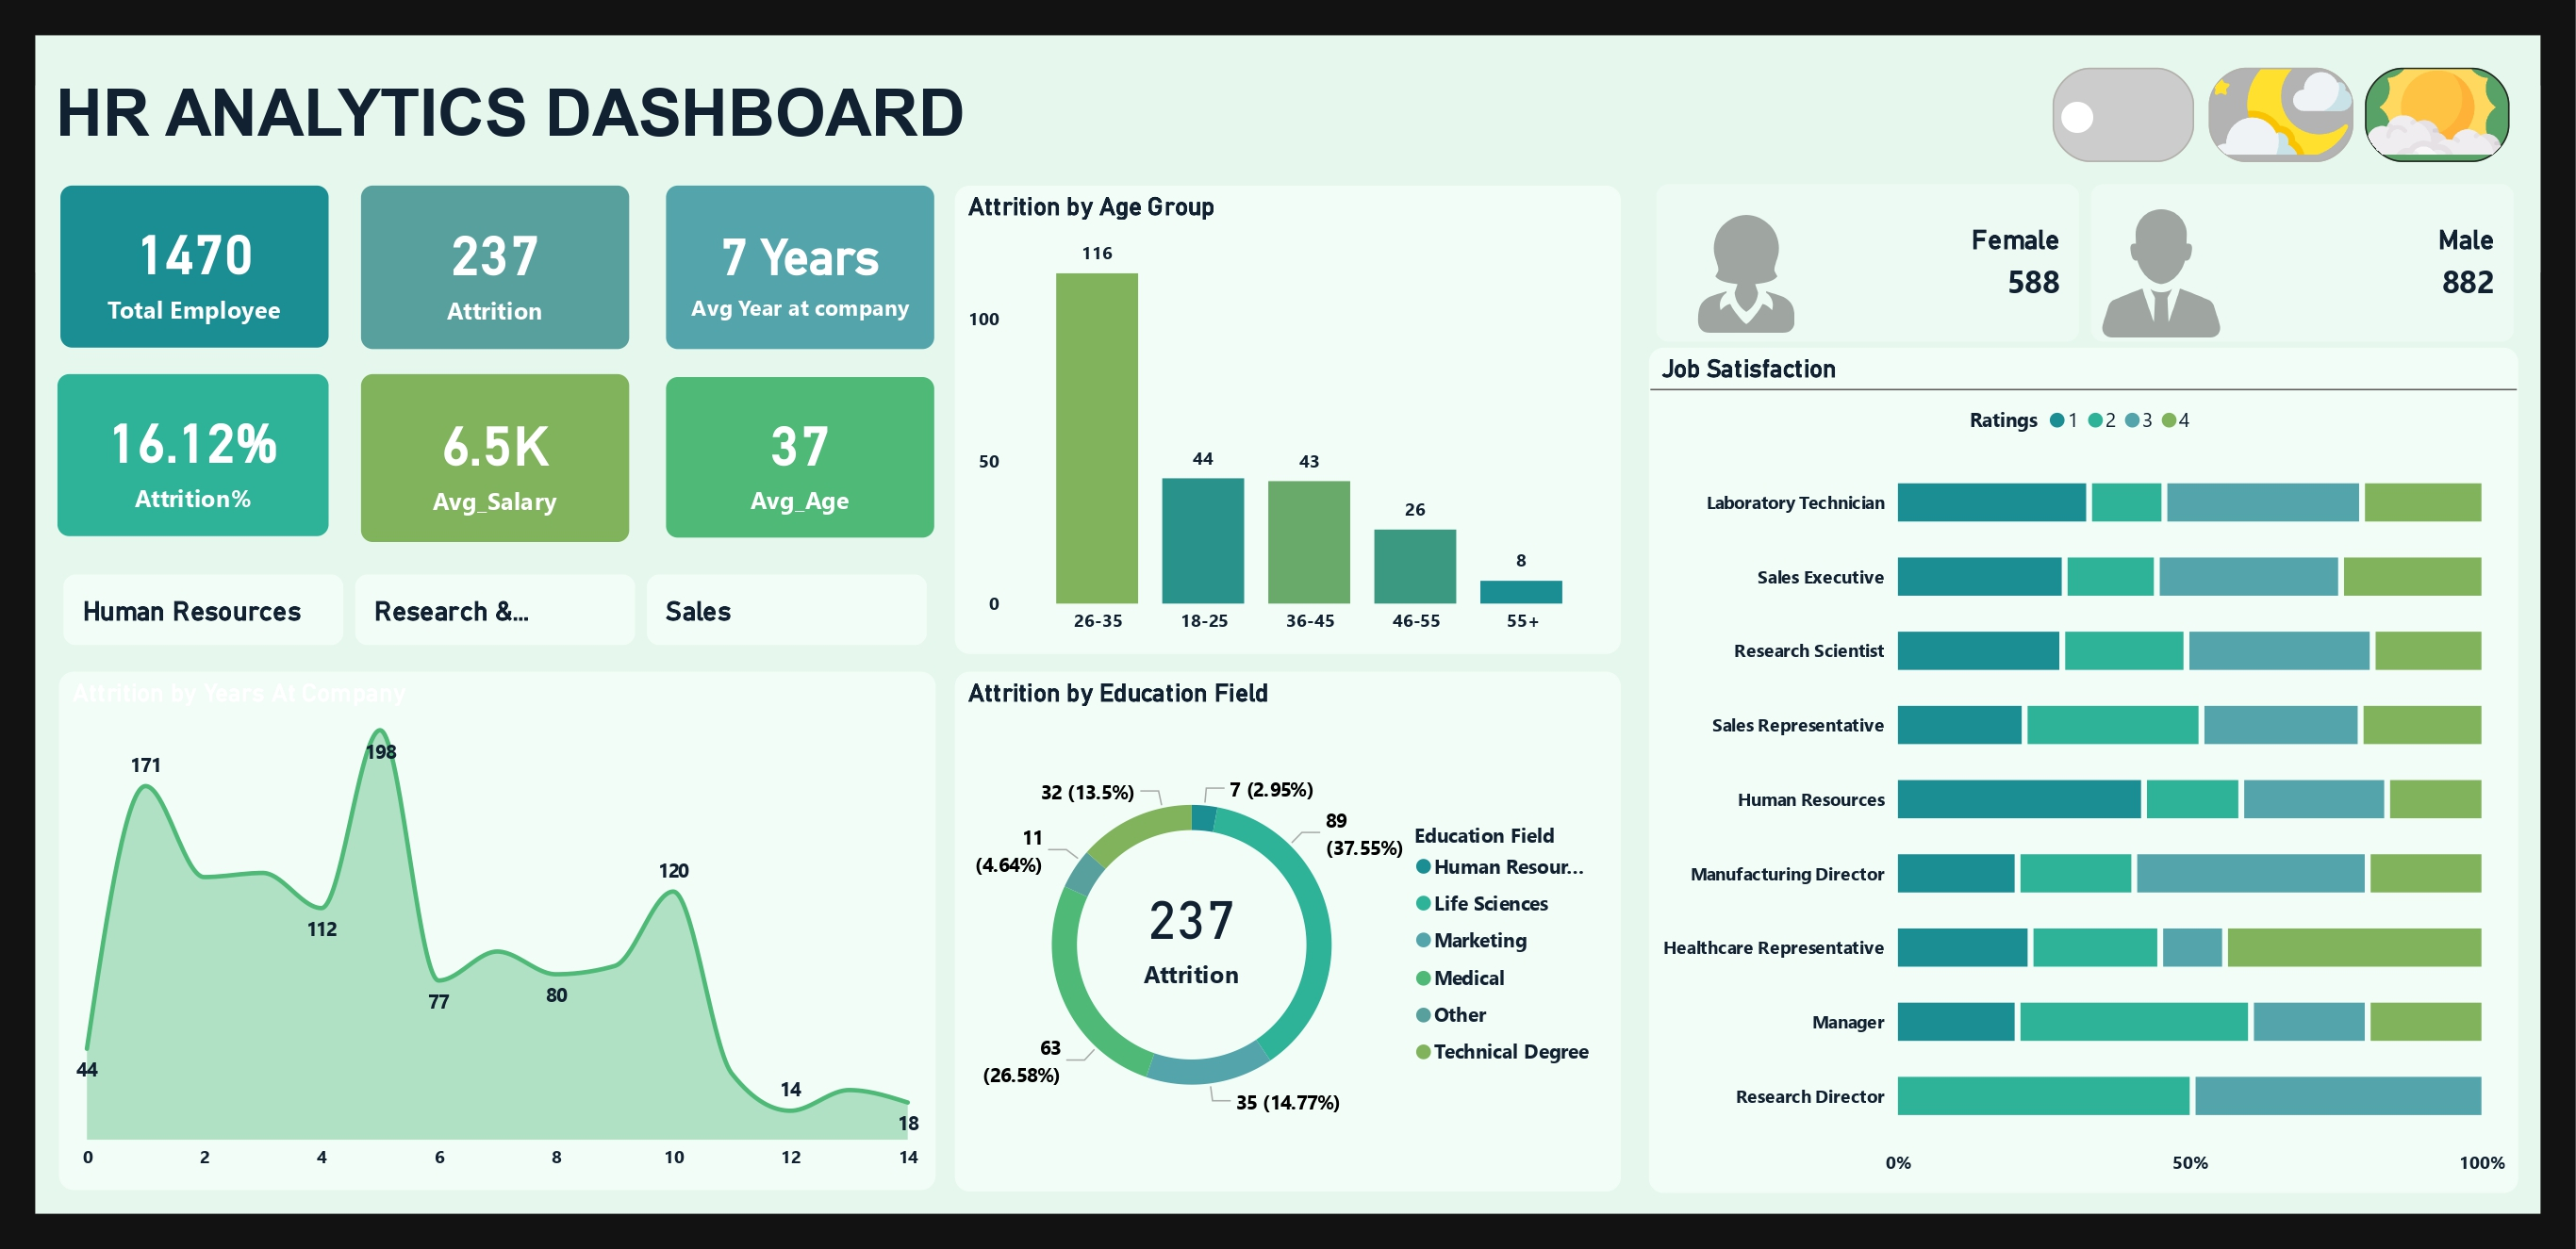

The dashboard page shown, as its layout file describes it:
{"tool":"powerbi","page":{"name":"HR analytics dash","canvas":[1700,800],"ordinal":0},"visuals":[{"type":"shape","box":[0,0,1700.3,800],"z":0},{"type":"image","box":[1393,112.7,98.8,97.3],"z":1000},{"type":"image","box":[1113.5,117.4,94.2,89.6],"z":2000},{"type":"advancedSlicerVisual","fields":{"Values":["HR_Analytics.Gender"]},"box":[1095,96,593,117],"z":3000},{"type":"card","fields":{"Values":["HR_Analytics.Employee_Count"]},"box":[17,101.9,182.2,109.6],"z":4000},{"type":"card","fields":{"Values":["HR_Analytics.Avg_Years_text"]},"box":[427.8,101.9,182.2,111.2],"z":5000},{"type":"card","fields":{"Values":["HR_Analytics.Attrition%"]},"box":[15.4,230.1,183.8,109.6],"z":6000},{"type":"card","fields":{"Values":["HR_Analytics.Avg_Salary"]},"box":[220.8,230.1,182.2,114.3],"z":7000},{"type":"card","fields":{"Values":["HR_Analytics.Avg_Age"]},"box":[427.8,231.7,182.2,109.6],"z":8000},{"type":"card","fields":{"Values":["HR_Analytics.Employee_Attrition"]},"box":[220.8,101.9,182.2,111.2],"z":9000},{"type":"donutChart","title":"Attrition by Education Field","fields":{"Y":["HR_Analytics.Employee_Attrition"],"Series":["HR_Analytics.EducationField"]},"box":[623.9,432.4,452.5,352.1],"z":10000},{"type":"hundredPercentStackedBarChart","title":"Job Satisfaction","fields":{"Y":["HR_Analytics.Employee_Attrition"],"Category":["HR_Analytics.JobRole"],"Series":["HR_Analytics.JobSatisfaction"]},"box":[1095,212,590,574],"z":11000},{"type":"advancedSlicerVisual","fields":{"Values":["HR_Analytics.Department"]},"box":[13.9,361.4,596.1,58.7],"z":12000},{"type":"card","fields":{"Values":["HR_Analytics.Employee_Attrition"]},"box":[681.1,549.8,206.9,117.4],"z":13000},{"type":"clusteredColumnChart","title":"Attrition by Age Group","fields":{"Category":["HR_Analytics.AgeGroup"],"Y":["HR_Analytics.Employee_Attrition"]},"box":[624,102,452,318],"z":14000},{"type":"areaChart","title":"Attrition by Years At Company","fields":{"Y":["CountNonNull(HR_Analytics.Attrition)"],"Category":["HR_Analytics.YearsAtCompany"]},"box":[16.4,431.9,594.1,351.7],"z":15000},{"type":"advancedSlicerVisual","fields":{"Values":["Dark_Mode.Label"]},"box":[1470,17,215,74],"z":16000},{"type":"shape","box":[13.9,27.8,827.8,52.5],"z":17000},{"type":"advancedSlicerVisual","fields":{"Values":["DarkMode_AutoSet.MODE"]},"box":[1364,17,106,74],"z":18000}]}

Visuals, with their boxes in screenshot pixels (x1, y1, x2, y2):
shape: (left=20, top=26, right=2561, bottom=1222)
image: (left=2102, top=195, right=2250, bottom=340)
image: (left=1684, top=203, right=1825, bottom=337)
advancedSlicerVisual - HR_Analytics.Gender: (left=1657, top=171, right=2543, bottom=345)
card - HR_Analytics.Employee_Count: (left=45, top=179, right=318, bottom=343)
card - HR_Analytics.Avg_Years_text: (left=659, top=179, right=932, bottom=345)
card - HR_Analytics.Attrition%: (left=43, top=370, right=318, bottom=534)
card - HR_Analytics.Avg_Salary: (left=350, top=370, right=622, bottom=541)
card - HR_Analytics.Avg_Age: (left=659, top=373, right=932, bottom=536)
card - HR_Analytics.Employee_Attrition: (left=350, top=179, right=622, bottom=345)
"Attrition by Education Field" donutChart: (left=952, top=673, right=1628, bottom=1199)
"Job Satisfaction" hundredPercentStackedBarChart: (left=1657, top=343, right=2538, bottom=1201)
advancedSlicerVisual - HR_Analytics.Department: (left=41, top=567, right=932, bottom=654)
card - HR_Analytics.Employee_Attrition: (left=1038, top=848, right=1347, bottom=1024)
"Attrition by Age Group" clusteredColumnChart: (left=952, top=179, right=1628, bottom=654)
"Attrition by Years At Company" areaChart: (left=44, top=672, right=933, bottom=1197)
advancedSlicerVisual - Dark_Mode.Label: (left=2217, top=52, right=2538, bottom=163)
shape: (left=41, top=69, right=1278, bottom=147)
advancedSlicerVisual - DarkMode_AutoSet.MODE: (left=2058, top=52, right=2217, bottom=163)
